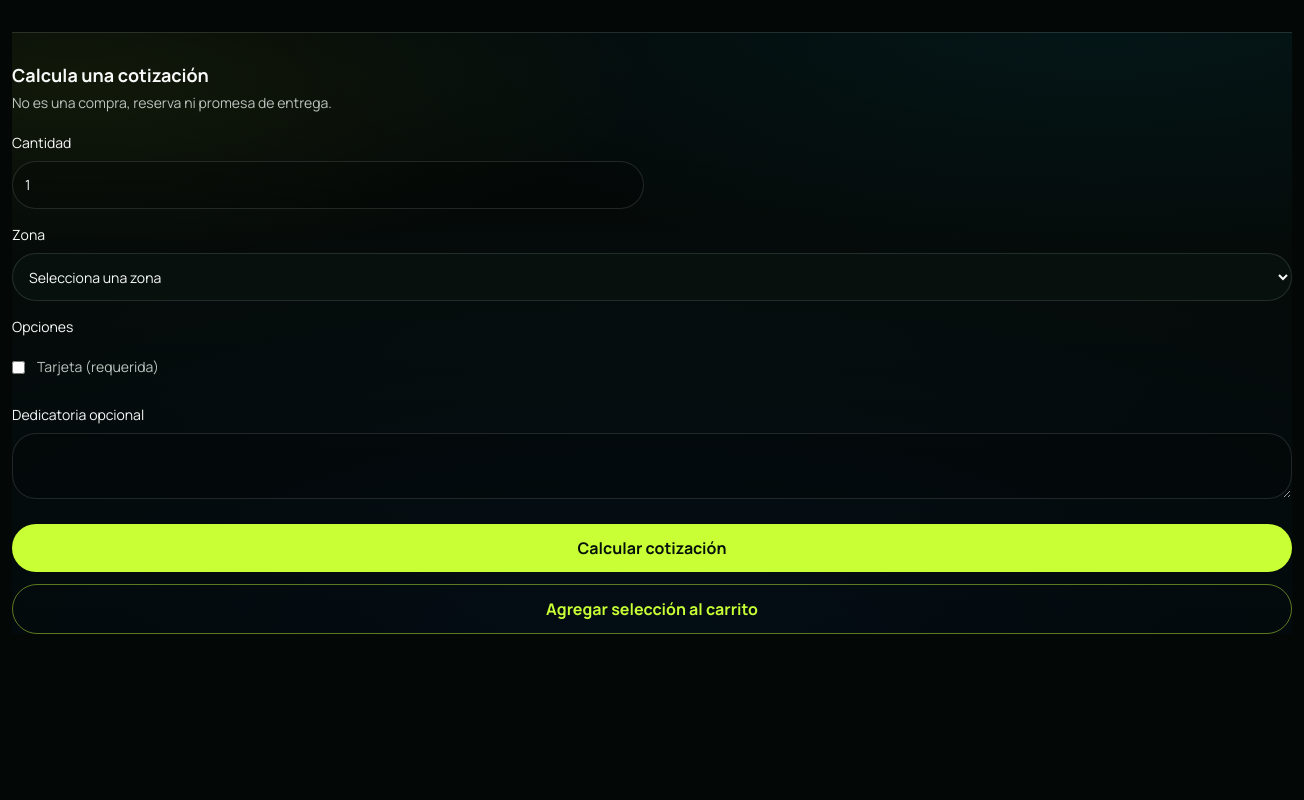
Test: quote calculator › validates quantity and required options before requesting a quote
The image size is (1304, 800).
Replace the text in the number field labelled "Cantidad" with "0" at [328, 185], box [12,161,644,209]
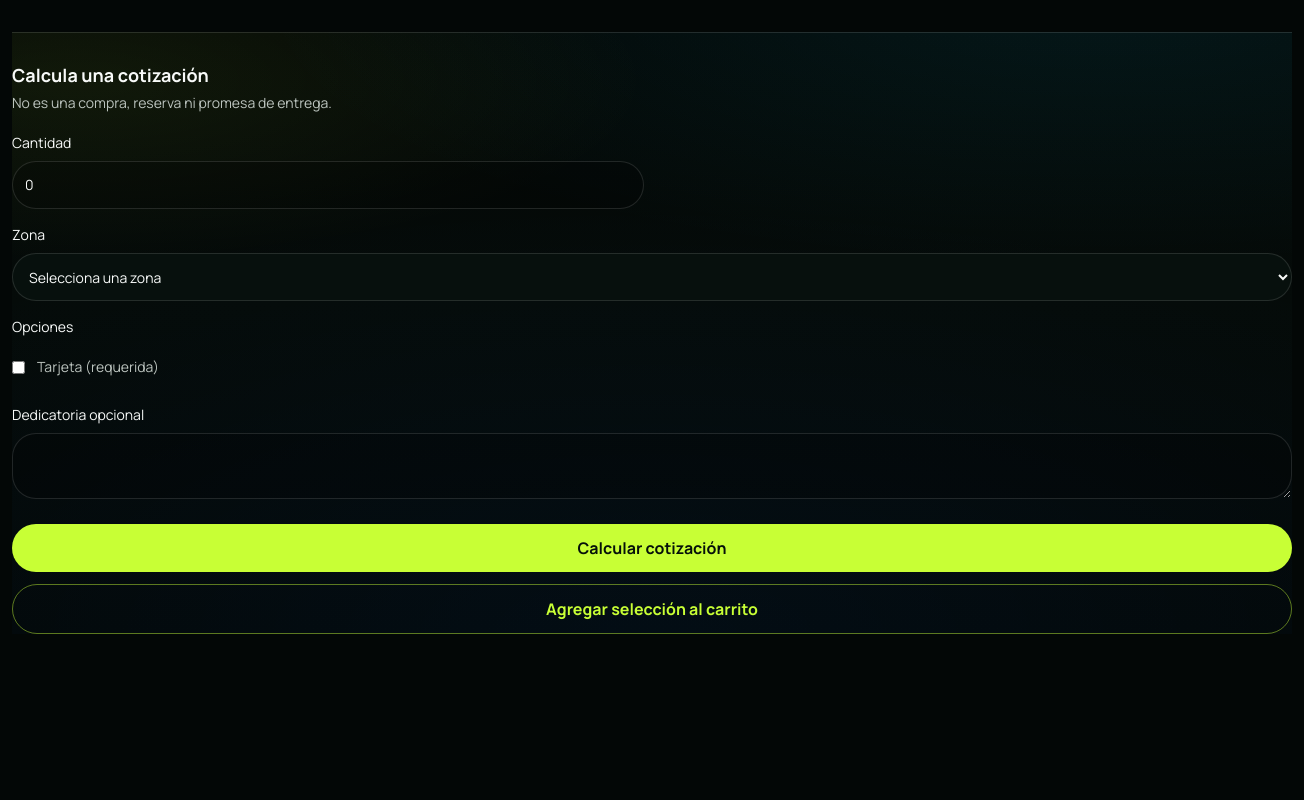
Click the button "Calcular cotización" at [652, 548], box [12,524,1292,572]
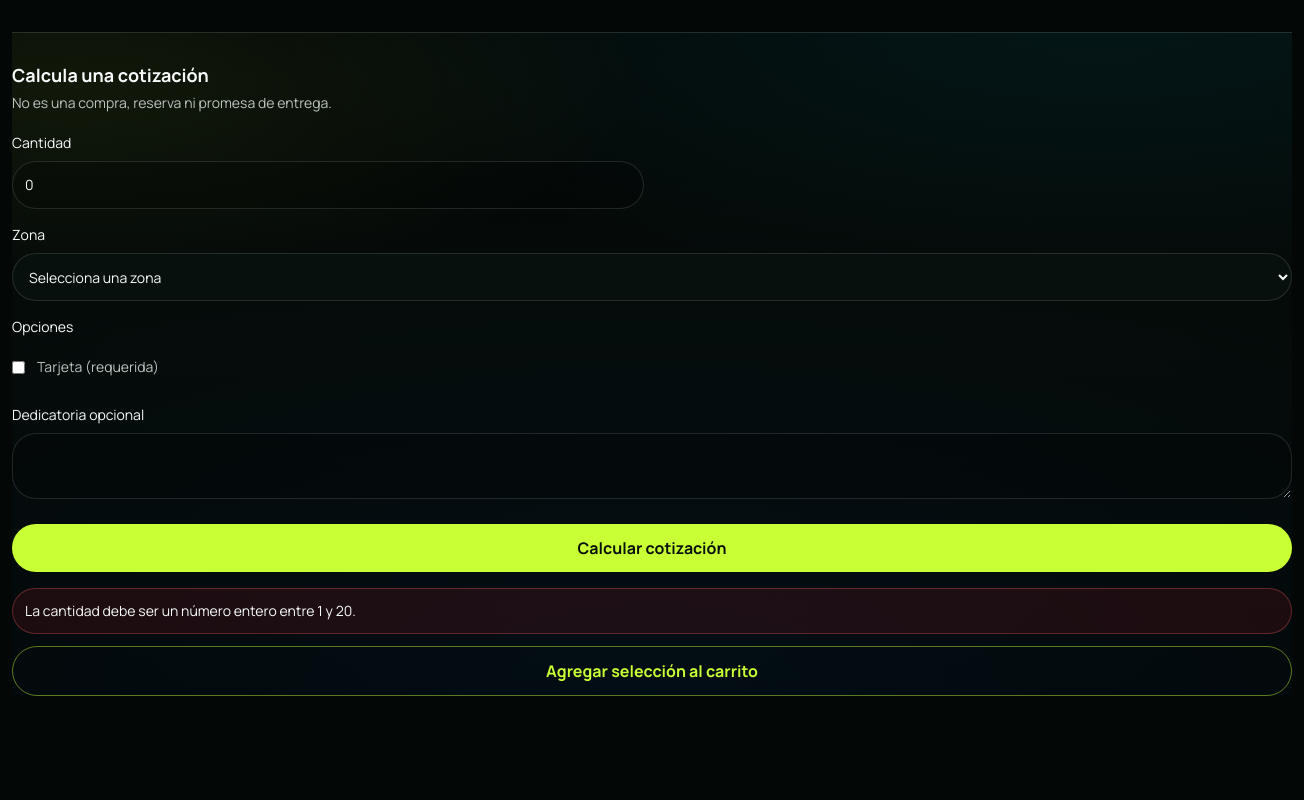
Expected: the message shows "entre 1 y 20", [25,601,356,620]
Replace the text in the number field labelled "Cantidad" with "1" at [328, 185], box [12,161,644,209]
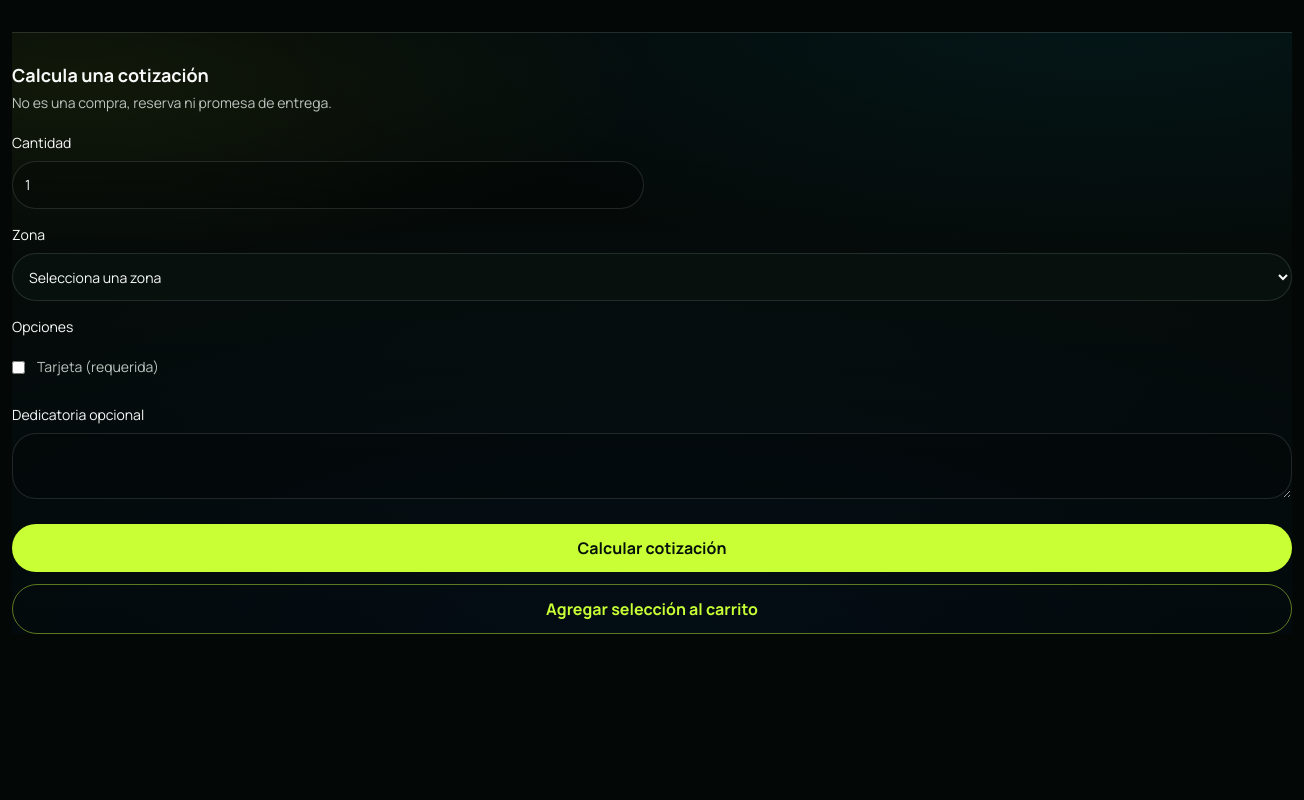
Click the button "Calcular cotización" at [652, 548], box [12,524,1292,572]
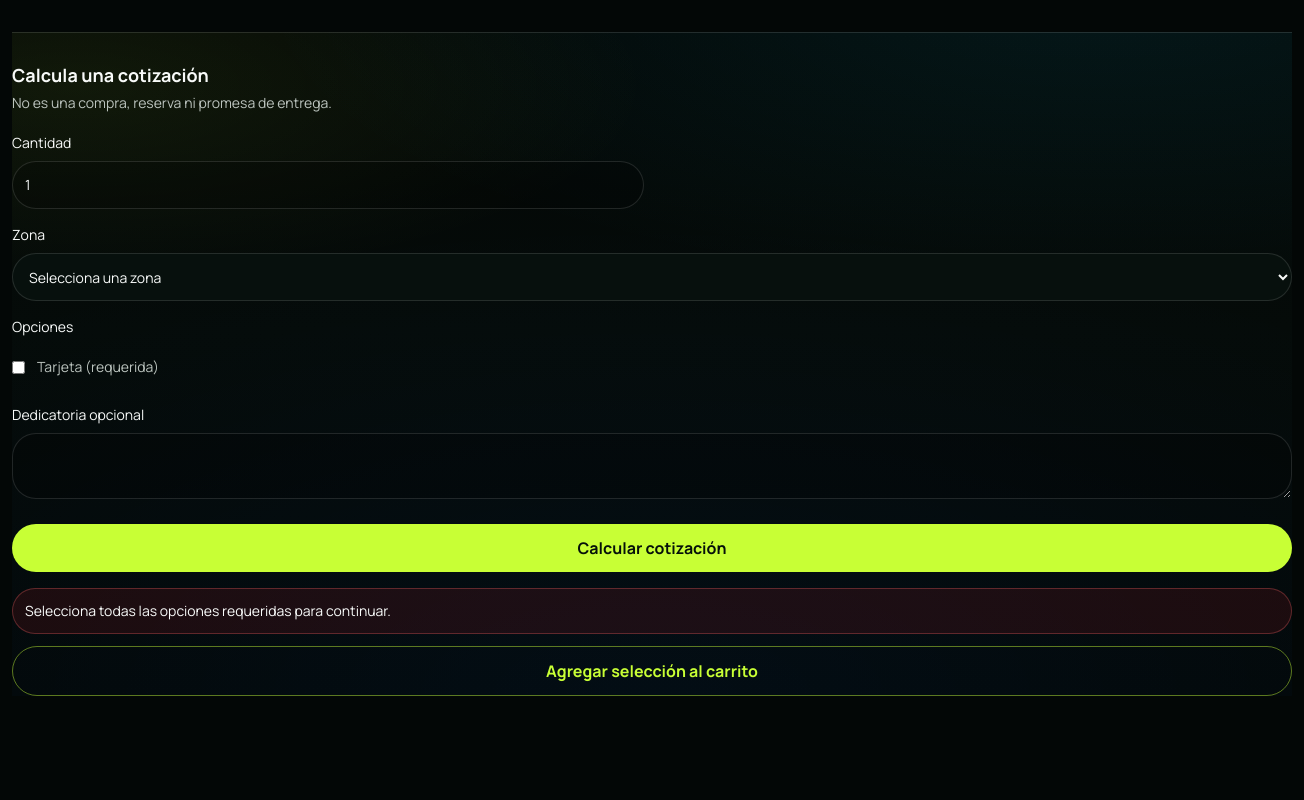
Expected: the message shows "opciones requeridas", [25,601,391,620]
